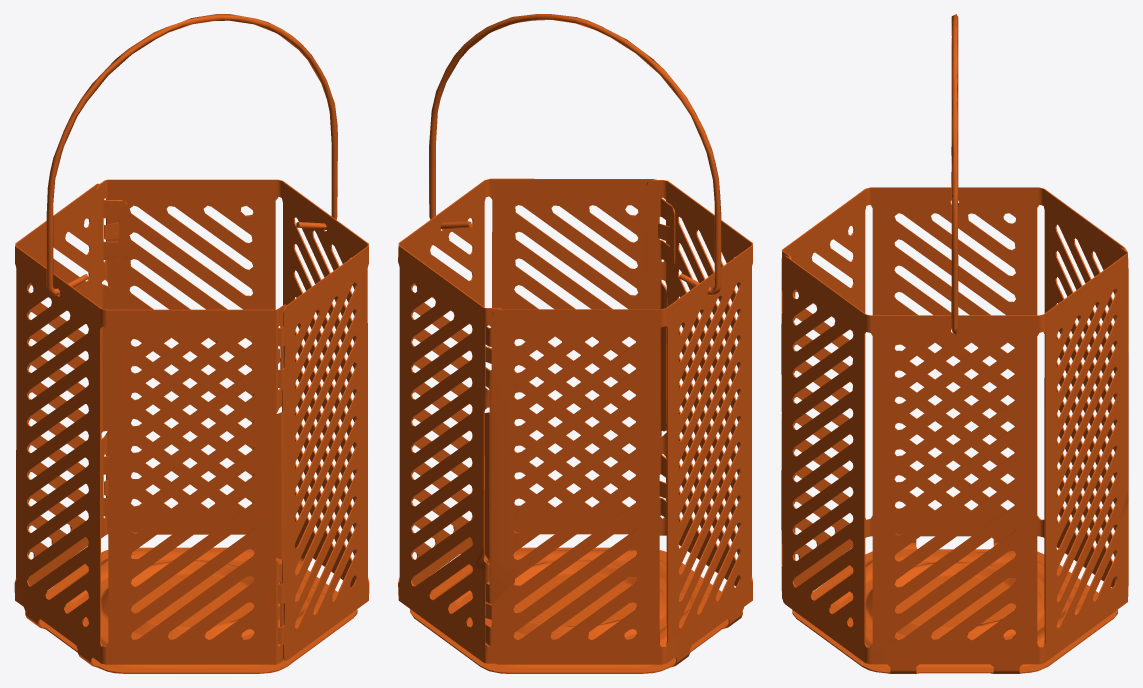
3 renders of one model, left to right at view 1: azimuth 30°, elevation 25°; view 2: azimuth 150°, elevation 25°; view 3: azimuth 270°, elevation 25°, orthographic.
Visible parts, largest first — view 1: ASY_ART_50587442_S01_NV01; view 2: ASY_ART_50587442_S01_NV01; view 3: ASY_ART_50587442_S01_NV01.
Part boxes in pixels (x1,y1,x2,y2): ASY_ART_50587442_S01_NV01: (14, 14, 369, 673); ASY_ART_50587442_S01_NV01: (398, 14, 752, 673); ASY_ART_50587442_S01_NV01: (781, 14, 1128, 673).
Size of the model in its own units: 0.1021 by 0.1991 by 0.1075.
1 material, 1 textured.
